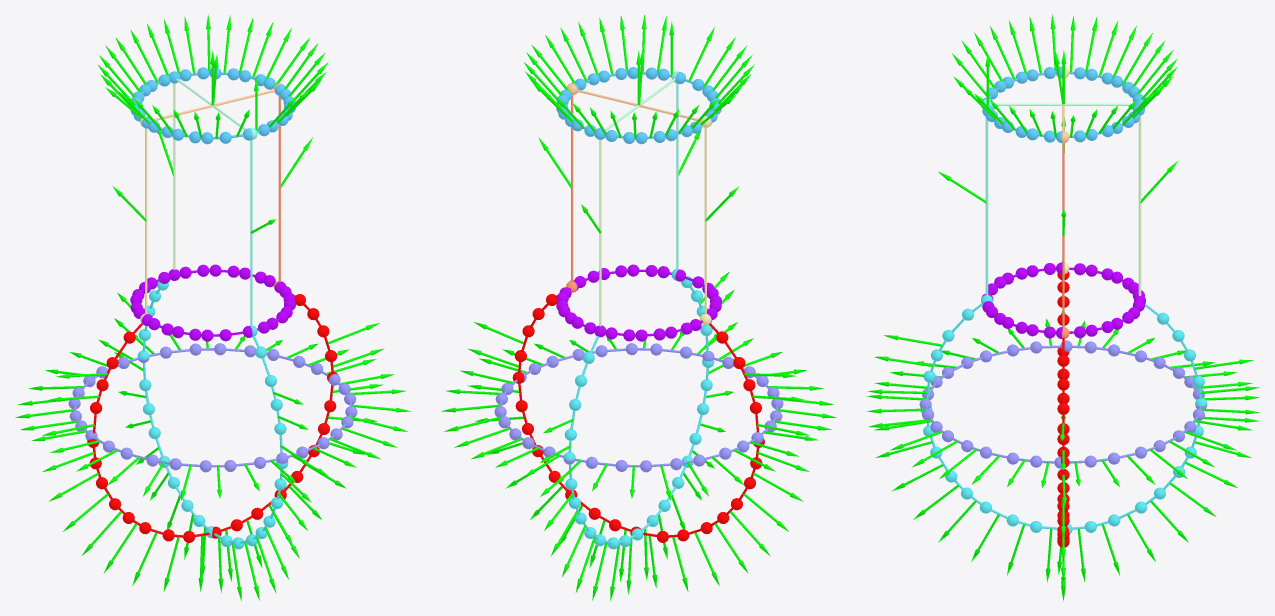
Rendered from flowrep_spherecylinder.gltf.
The picture shows the model from 3 angles, left to right: view 1: azimuth 30°, elevation 25°; view 2: azimuth 150°, elevation 25°; view 3: azimuth 270°, elevation 25°; orthographic projection.
Size of the model in its own units: 0.6469 by 0.9664 by 0.6475.
